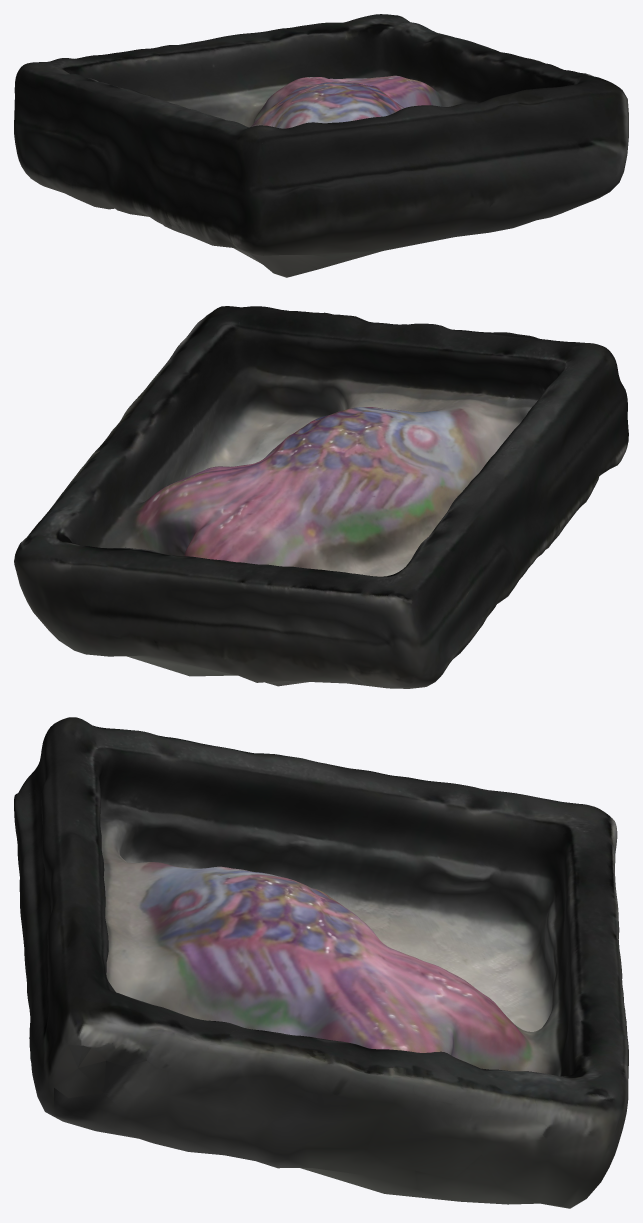
The picture shows the model from 3 angles, top to bottom: view 1: azimuth 30°, elevation 25°; view 2: azimuth 150°, elevation 25°; view 3: azimuth 270°, elevation 25°; orthographic projection. The views are drawn at different scales.
Size of the model in its own units: 0.5557 by 0.3492 by 0.552.
Materials: 1 (1 with a texture image).
